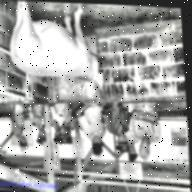boar: (6, 1, 106, 93)
